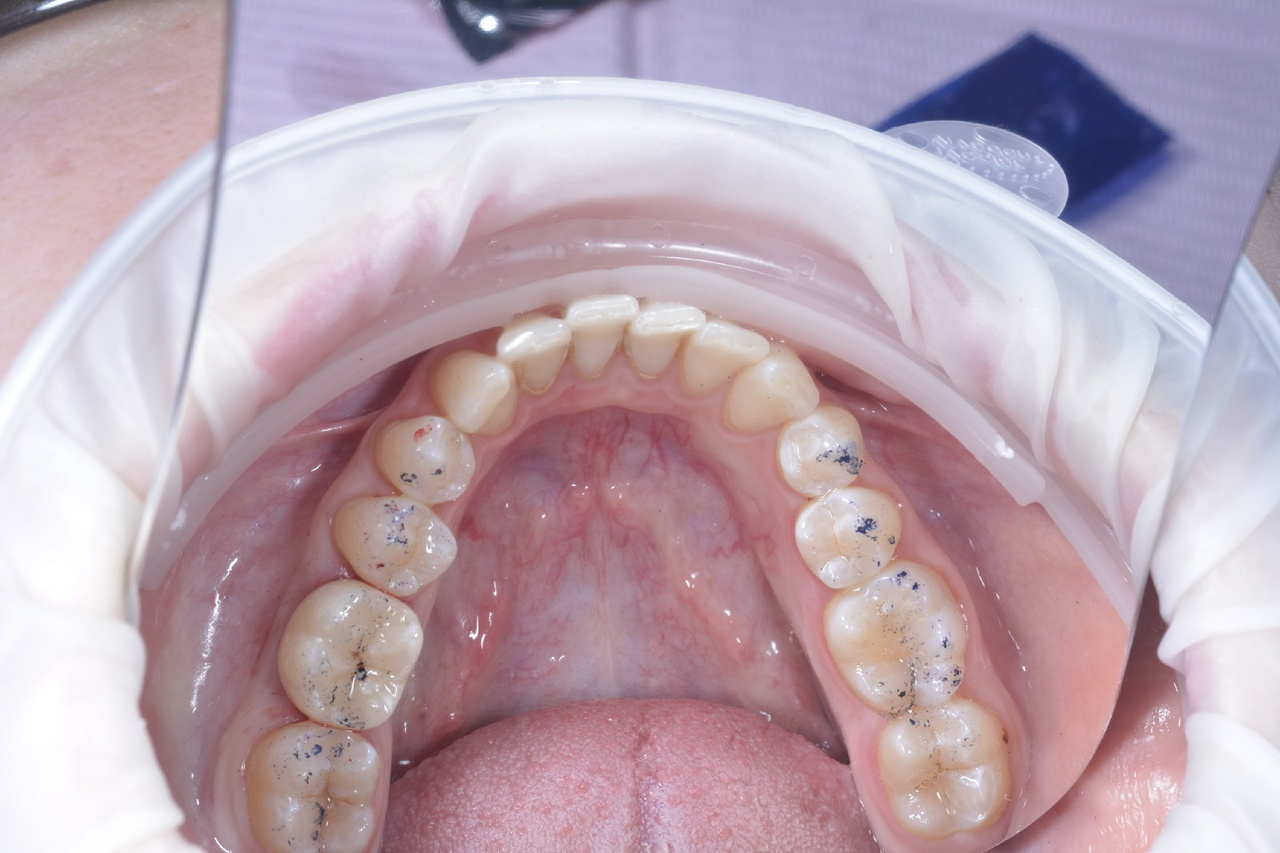UL1BC_decay: (767, 419, 863, 498)
UL1M_decay: (822, 566, 964, 713)
UL2BC_decay: (791, 490, 902, 596)
UL2M_decay: (880, 700, 1009, 836)
ULCI_healthy: (623, 295, 691, 395)
ULC_healthy: (722, 359, 811, 438)
ULLI_healthy: (669, 322, 757, 406)
UR1BC_decay: (383, 423, 482, 503)
UR1M_decay: (283, 579, 417, 733)
UR2BC_decay: (327, 490, 454, 599)
UR2M_decay: (248, 715, 377, 848)
URCI_healthy: (567, 291, 621, 379)
URC_healthy: (440, 359, 517, 434)
URLI_healthy: (497, 318, 572, 401)
